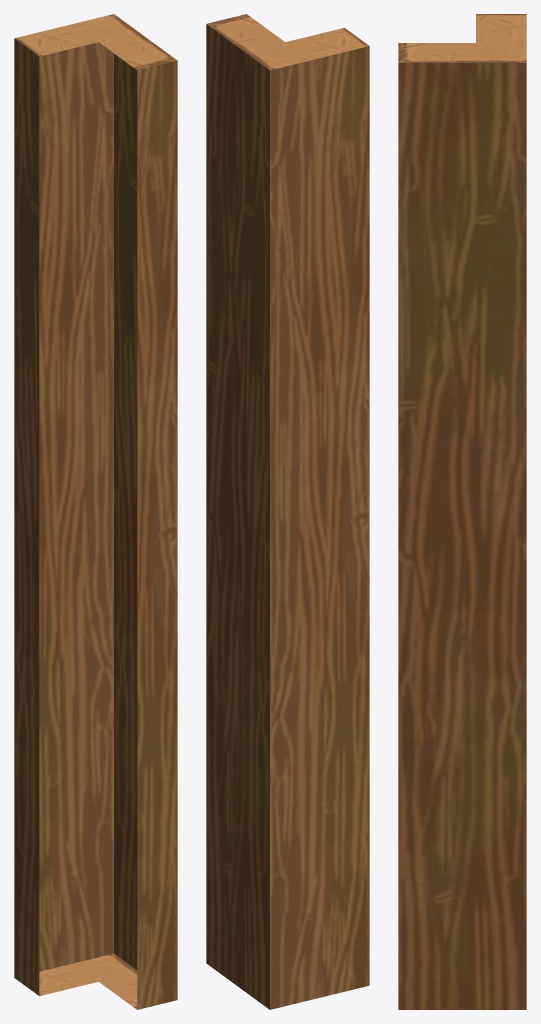
The model's file is Corner_Interior_Big.gltf.
3 renders of one model, left to right at view 1: azimuth 30°, elevation 25°; view 2: azimuth 210°, elevation 25°; view 3: azimuth 270°, elevation 25°, orthographic.
Visible parts, largest first — view 1: Corner_Interior_Big; view 2: Corner_Interior_Big; view 3: Corner_Interior_Big.
Part boxes in pixels (<box>): Corner_Interior_Big: <box>14,14,177,1009</box>; Corner_Interior_Big: <box>206,14,369,1009</box>; Corner_Interior_Big: <box>398,14,526,1009</box>.
Size of the model in its own units: 0.3331 by 3 by 0.3681.
1 material, 1 textured.
